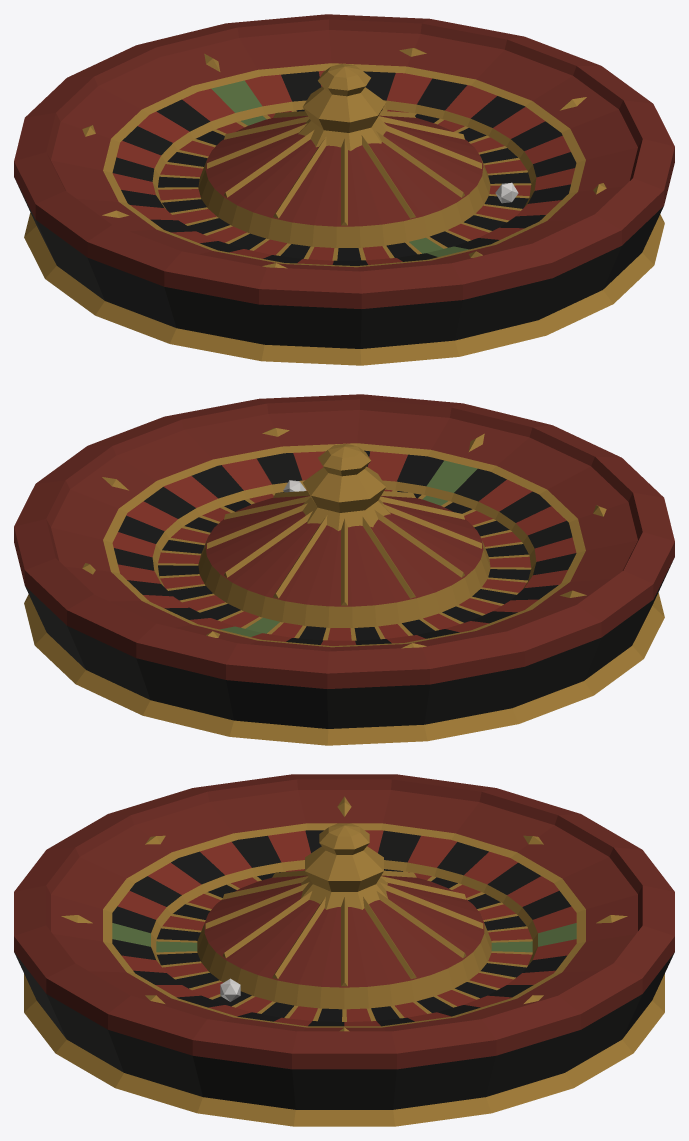
Rendered from roulette-wheel-f92631.glb.
3 renders of one model, top to bottom at view 1: azimuth 30°, elevation 25°; view 2: azimuth 150°, elevation 25°; view 3: azimuth 270°, elevation 25°, orthographic.
Parts seen in each view (by area): view 1: bowl, head; view 2: bowl, head; view 3: bowl, head.
Boxes of the visible parts, x1,y1,x2,y2 form: bowl: [14, 14, 674, 365]; head: [112, 63, 576, 265]; bowl: [14, 394, 674, 745]; head: [112, 443, 576, 645]; bowl: [14, 774, 674, 1126]; head: [112, 823, 576, 1026].
Bounding box in the file's own units: 0.8376 × 0.2315 × 0.8376.
